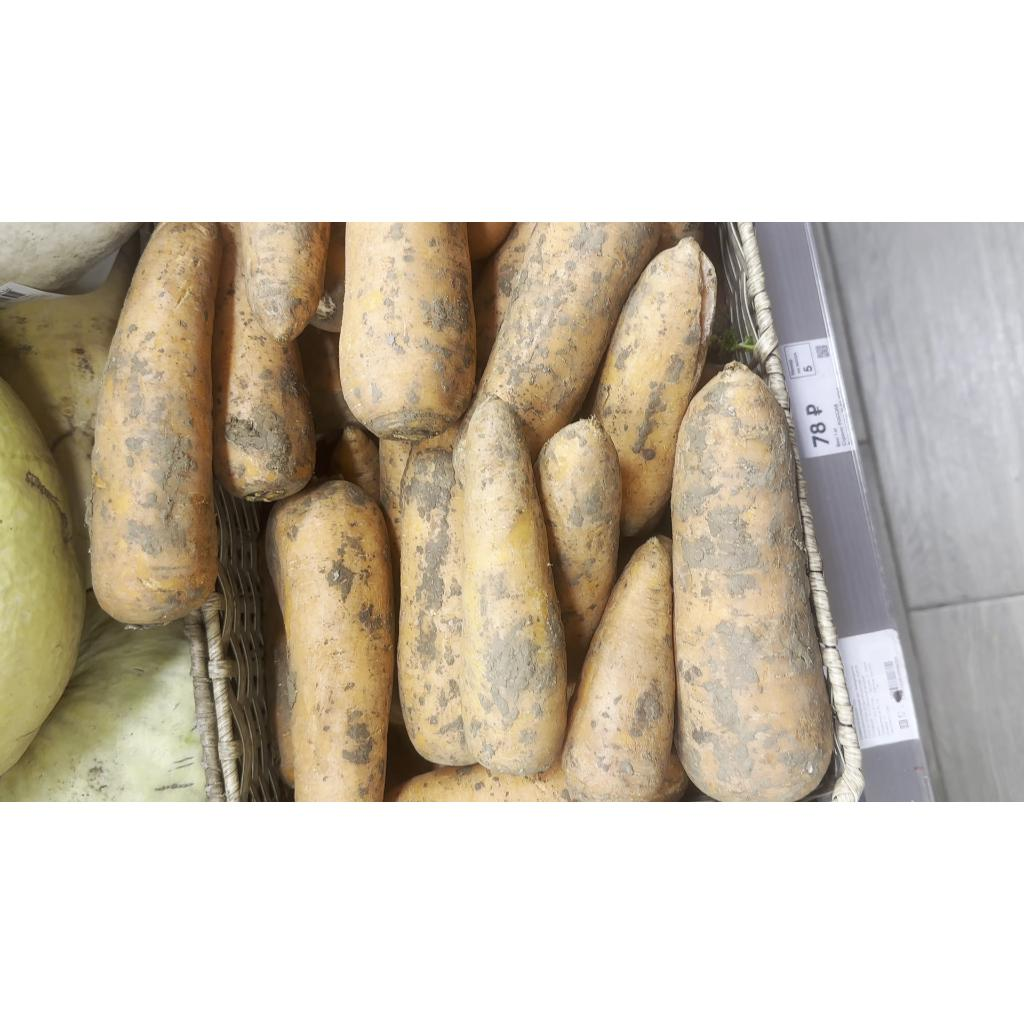carrot: (672, 362, 834, 802), (90, 222, 222, 624), (474, 222, 660, 457), (266, 480, 394, 802), (458, 396, 566, 776), (592, 238, 714, 536), (562, 538, 676, 802), (340, 222, 476, 440), (212, 222, 316, 502), (398, 422, 476, 766), (534, 418, 622, 688), (240, 222, 330, 342), (474, 222, 536, 379), (388, 758, 570, 802)
